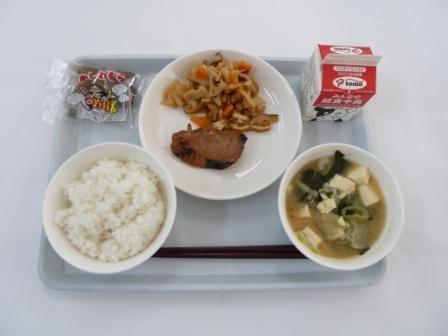Meat: (160, 117, 251, 177)
Milk: (290, 33, 390, 129)
Rice: (39, 141, 173, 272)
Soups: (277, 146, 408, 278)
vegetable based cooked food: (156, 55, 284, 127)
